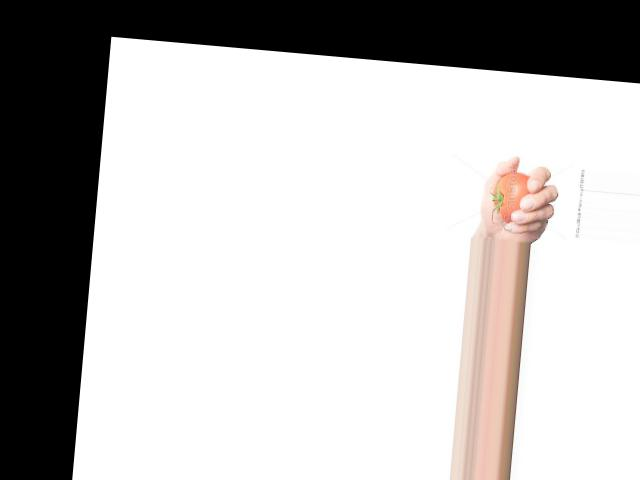tomato: (491, 169, 530, 223)
